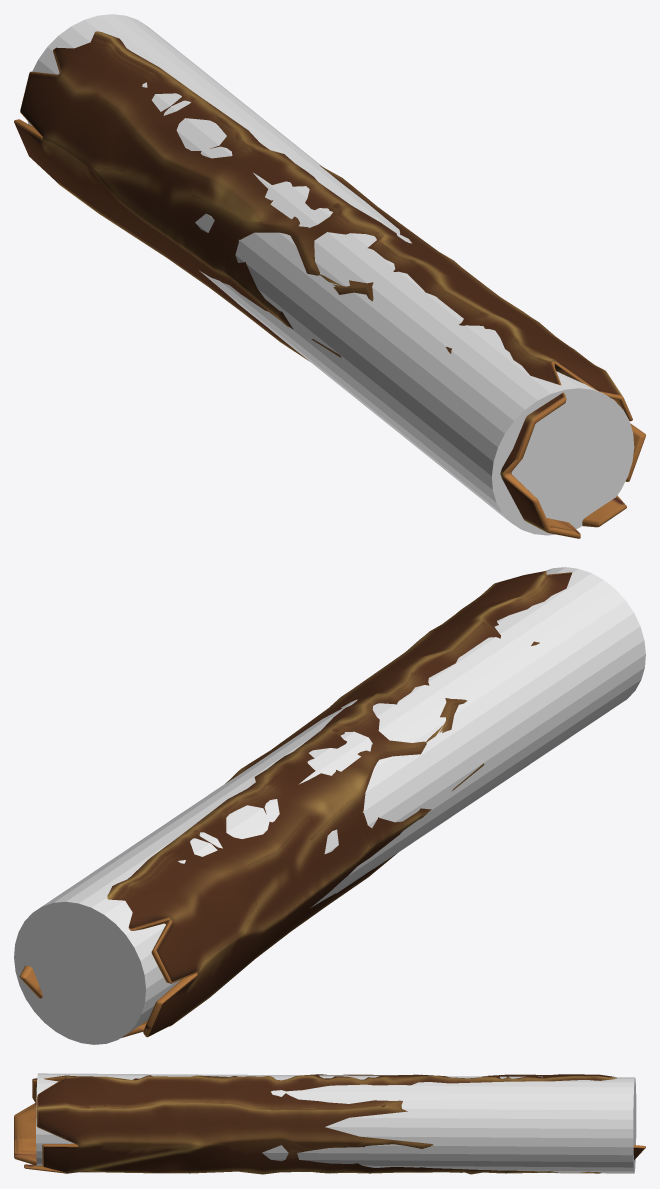
Rendered from log.gltf.
The picture shows the model from 3 angles, top to bottom: view 1: azimuth 30°, elevation 25°; view 2: azimuth 150°, elevation 25°; view 3: azimuth 270°, elevation 25°; orthographic projection. The views are drawn at different scales.
Visible parts, largest first — view 1: Cylinder.colonly, Cylinder; view 2: Cylinder.colonly, Cylinder; view 3: Cylinder, Cylinder.colonly.
Part boxes in pixels (x1,y1,x2,y2): Cylinder.colonly: [27, 14, 634, 535]; Cylinder: [14, 31, 645, 538]; Cylinder.colonly: [14, 567, 645, 1044]; Cylinder: [19, 571, 572, 1037]; Cylinder: [14, 1074, 645, 1174]; Cylinder.colonly: [36, 1073, 636, 1173].
Size of the model in its own units: 5.63 by 5.07 by 30.54.
1 material, 1 textured.
